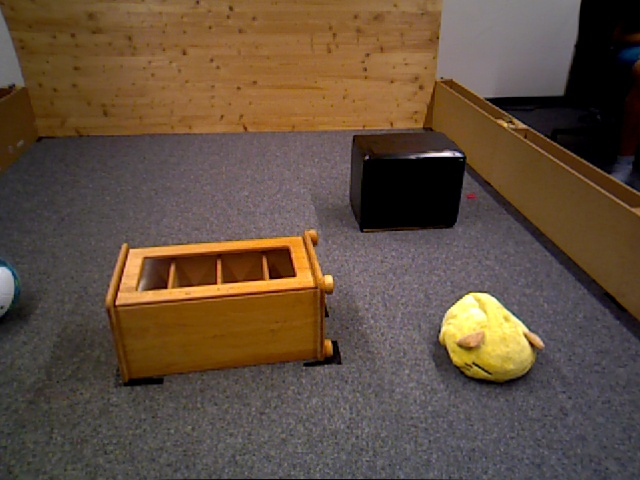grasp: (438, 292, 538, 381)
kick: (1, 258, 20, 319)
push: (349, 133, 467, 230)
